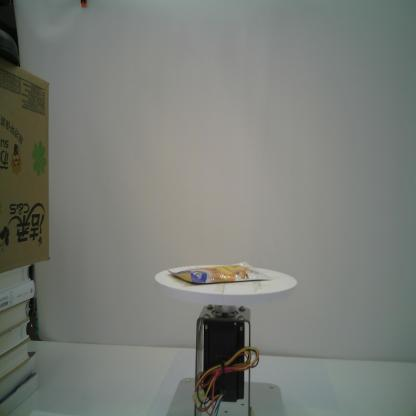Seasoner: (166, 260, 273, 285)
